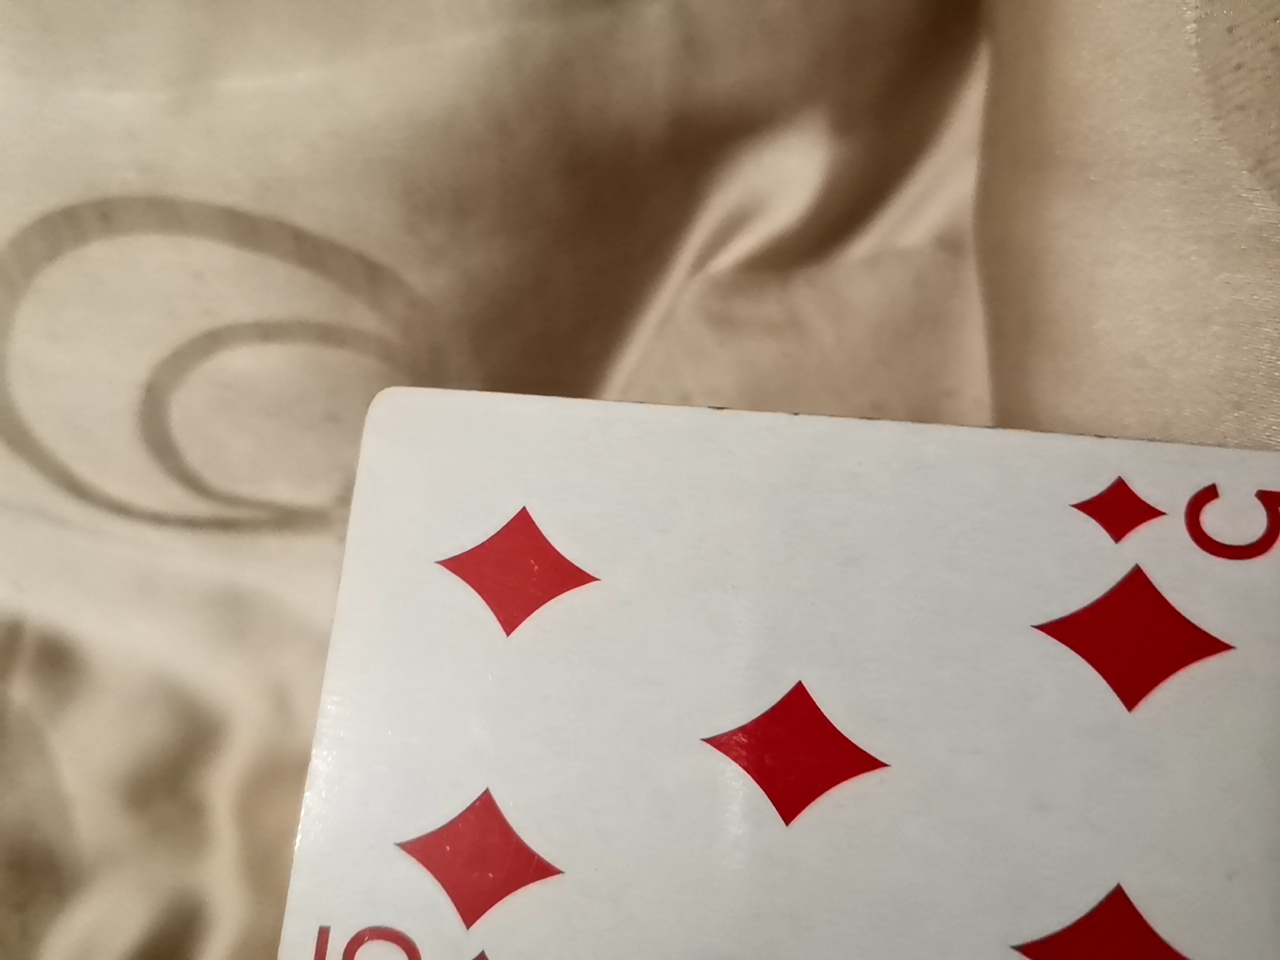fk 5: (267, 376, 1275, 958)
